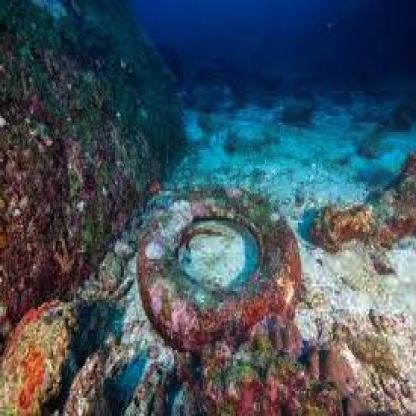tire: (127, 184, 312, 375)
